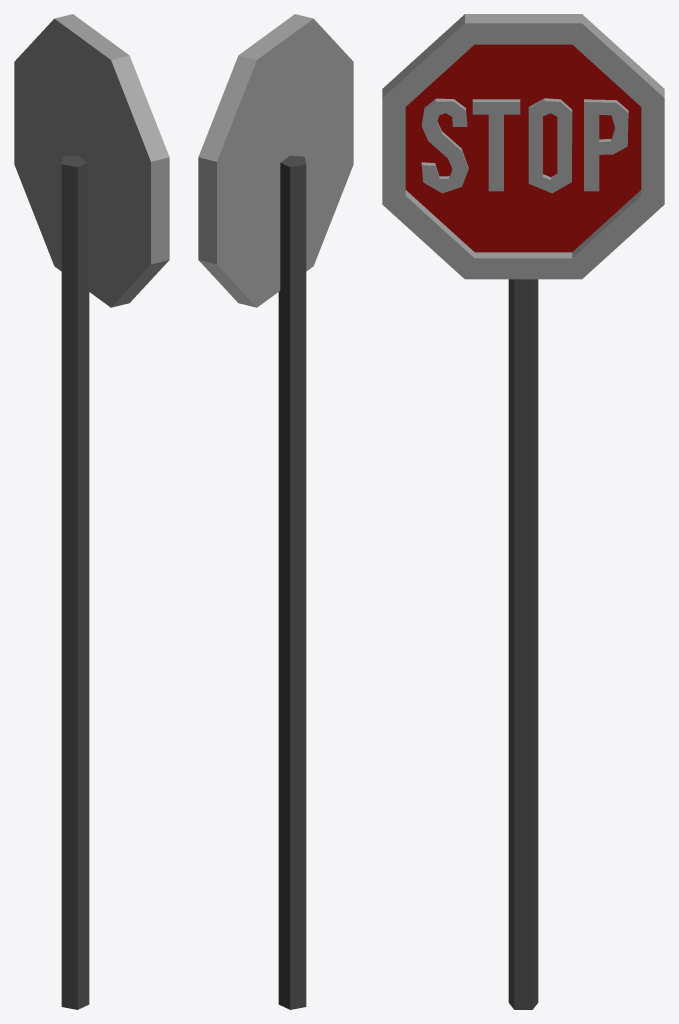
Rendered from Sign_Stop.glb.
The picture shows the model from 3 angles, left to right: view 1: azimuth 30°, elevation 25°; view 2: azimuth 150°, elevation 25°; view 3: azimuth 270°, elevation 25°; orthographic projection. The views are drawn at different scales.
Parts seen in each view (by area): view 1: Stop_Cylinder; view 2: Stop_Cylinder; view 3: Stop_Cylinder.
Boxes of the visible parts, x1,y1,x2,y2 form: Stop_Cylinder: (14,14,169,1009); Stop_Cylinder: (198,14,353,1009); Stop_Cylinder: (382,14,664,1009).
Size of the model in its own units: 0.0233 by 0.5377 by 0.1384.
